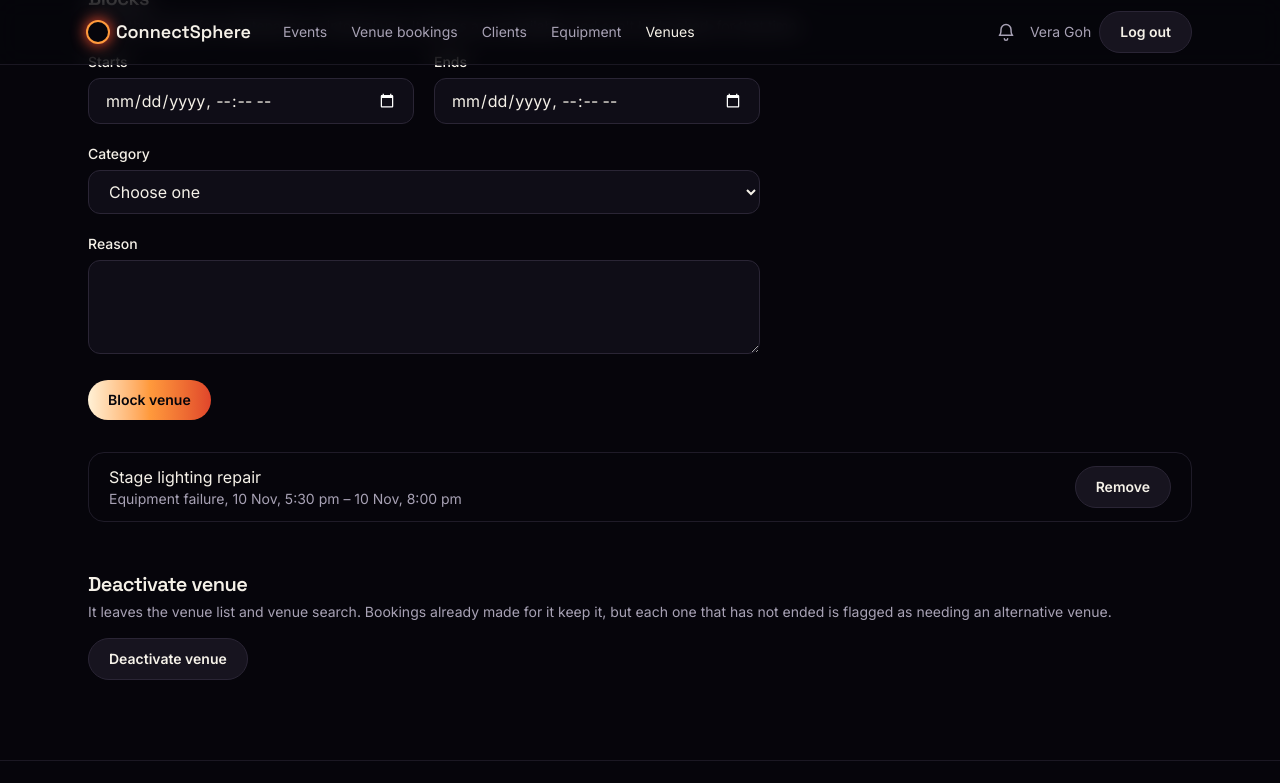
SCRUM-34 blocking a venue (AC1) › shows the backend messages under the fields it refused
(page scrolled)
Click the button "Block venue" at (149, 400), box [88,380,211,420]
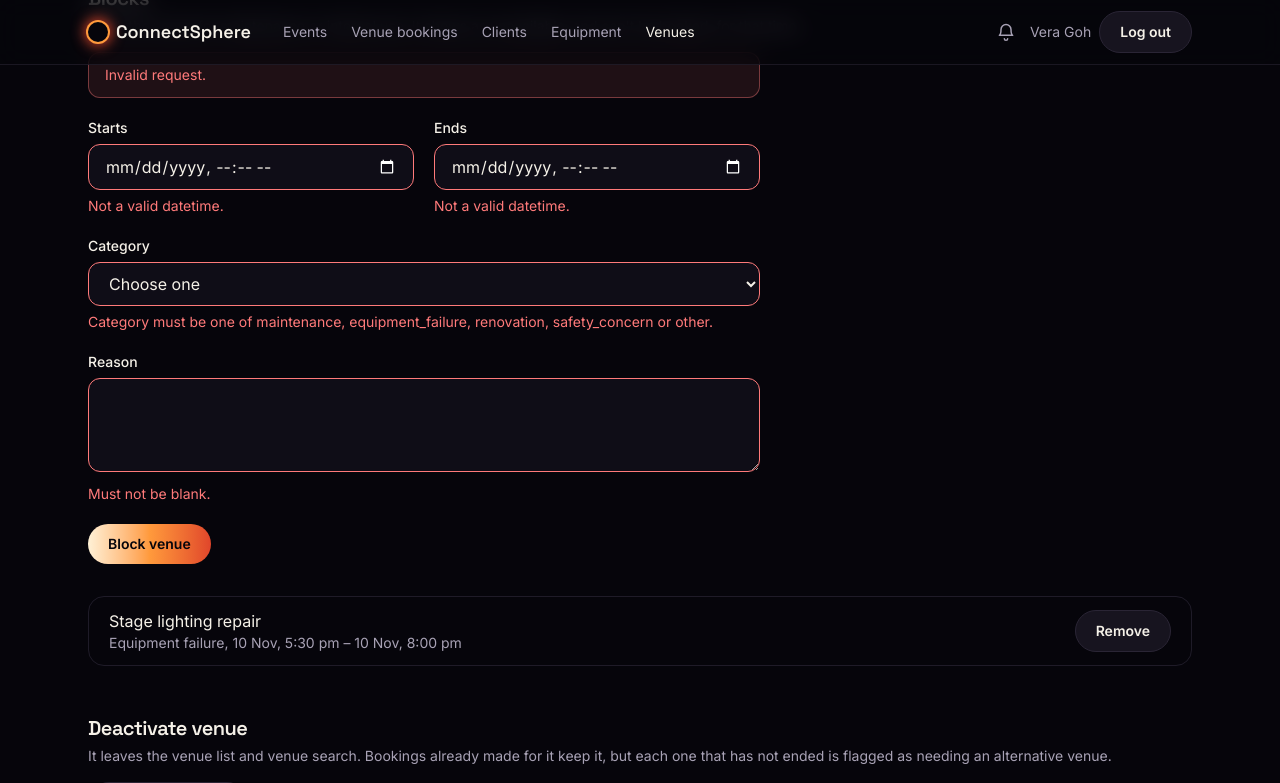
Expected: the list item "Must not be blank." is shown, [88,485,210,502]
